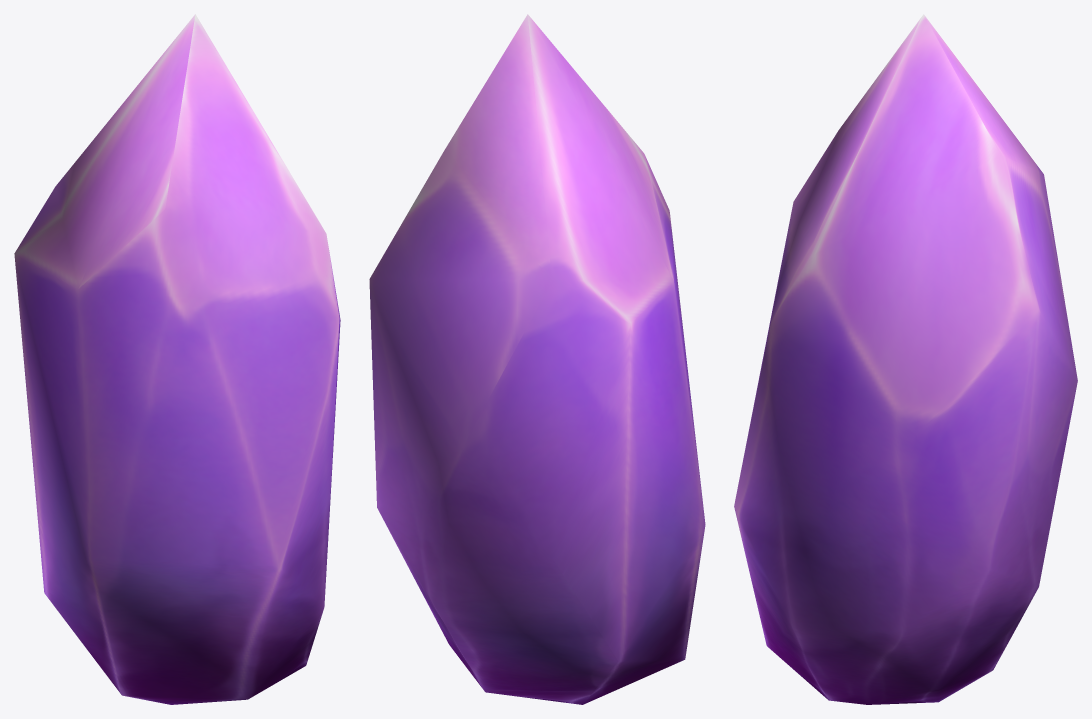
The model's file is PurpCrystal.fbx.
The picture shows the model from 3 angles, left to right: view 1: azimuth 30°, elevation 25°; view 2: azimuth 150°, elevation 25°; view 3: azimuth 270°, elevation 25°; orthographic projection. The views are drawn at different scales.
Visible parts, largest first — view 1: PurpCrystal04; view 2: PurpCrystal04; view 3: PurpCrystal04.
Boxes of the visible parts, x1,y1,x2,y2 form: PurpCrystal04: [14, 14, 340, 704]; PurpCrystal04: [369, 14, 705, 704]; PurpCrystal04: [734, 14, 1077, 704].
Size of the model in its own units: 42.64 by 96.26 by 43.7.
Materials: 1 (1 with a texture image).
